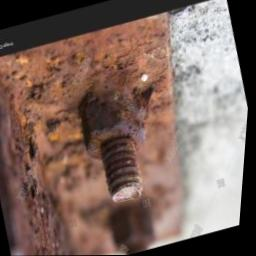Corroded-Bolt: (80, 87, 154, 202)
